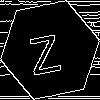Z: (25, 25, 63, 76)
